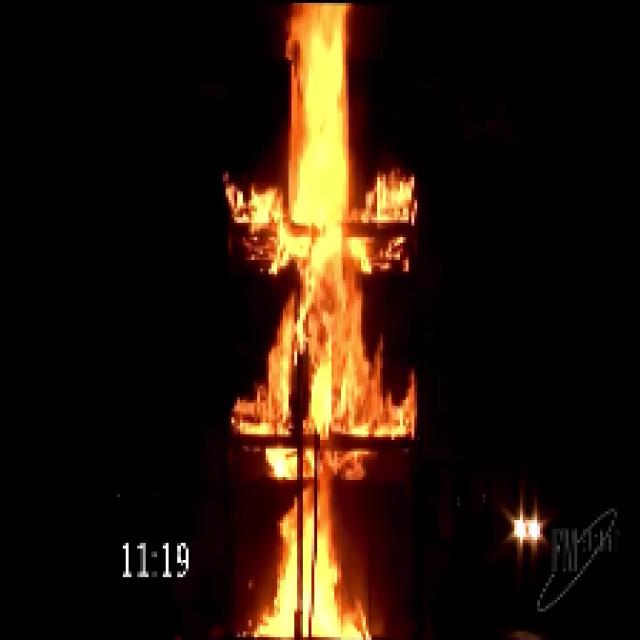fire: (258, 8, 372, 636)
